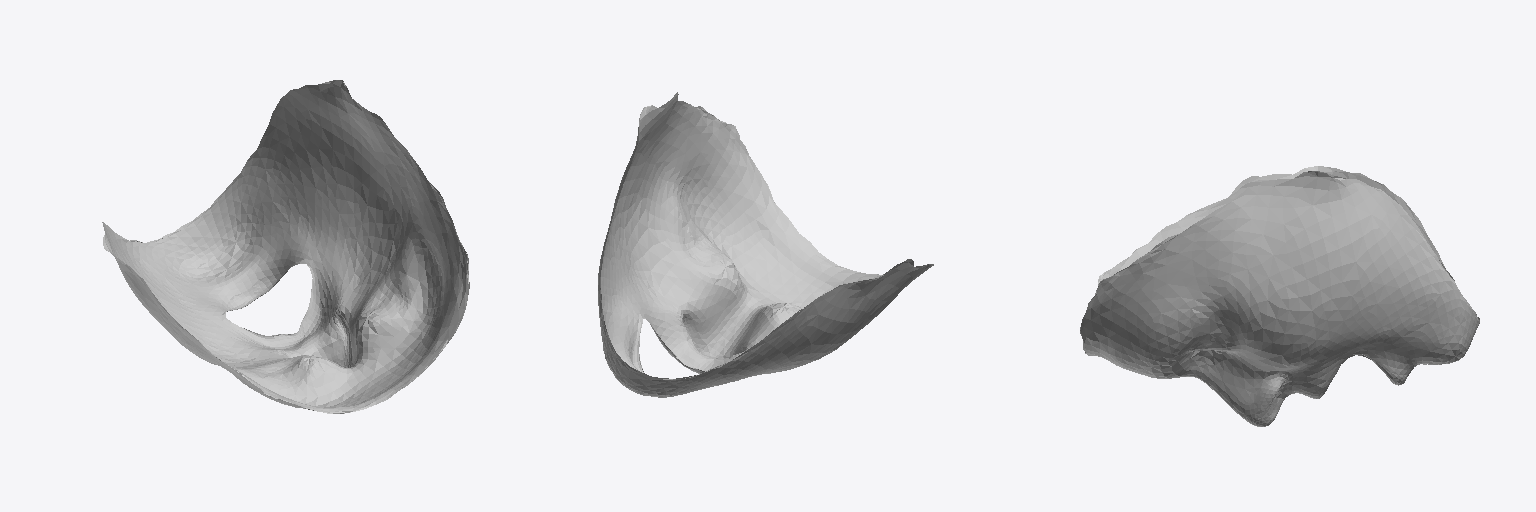
Rendered from face_gab_sfm65.obj.
3 renders of one model, left to right at view 1: azimuth 30°, elevation 25°; view 2: azimuth 150°, elevation 25°; view 3: azimuth 270°, elevation 25°, orthographic.
Bounding box in the file's own units: 167 × 165 × 219.